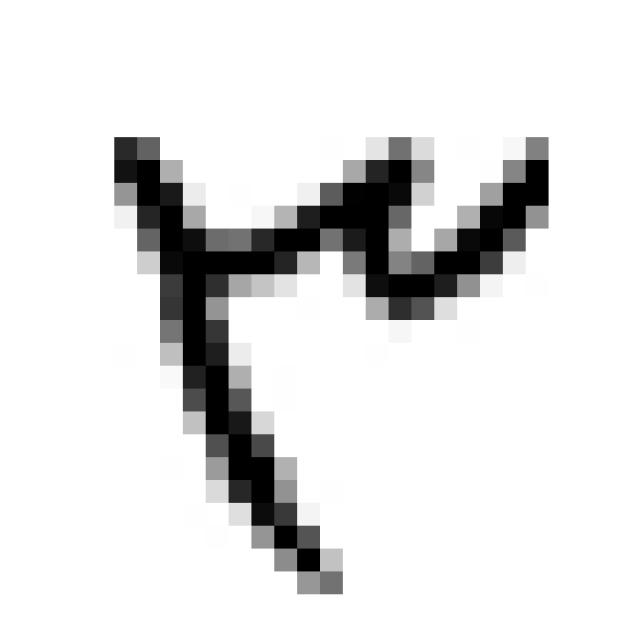3 -three-: (89, 110, 574, 605)
